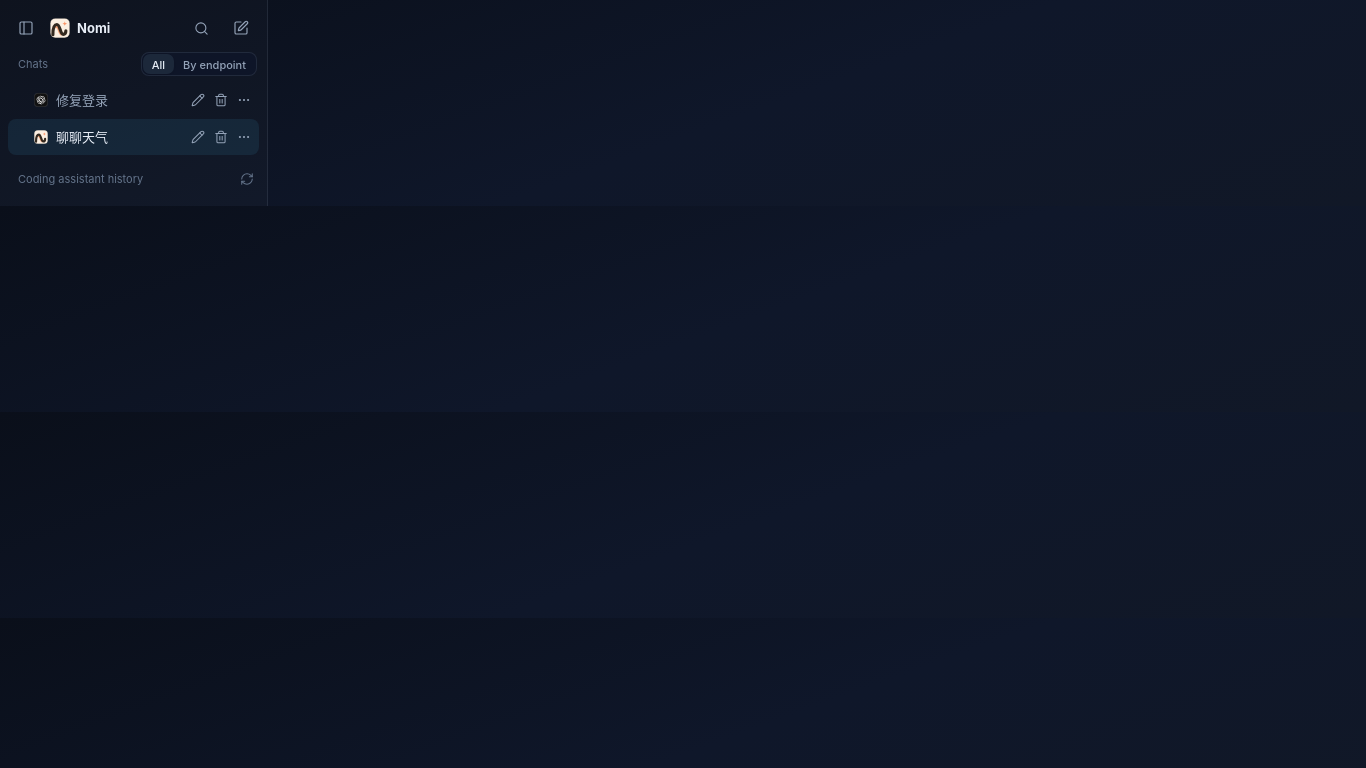
Scenario: one conversation context menu › Escape closes the menu; arrow keys move focus between items
Right-click the button with test id "history-item" showing "修复登录": (134, 100) [8, 82, 259, 118]
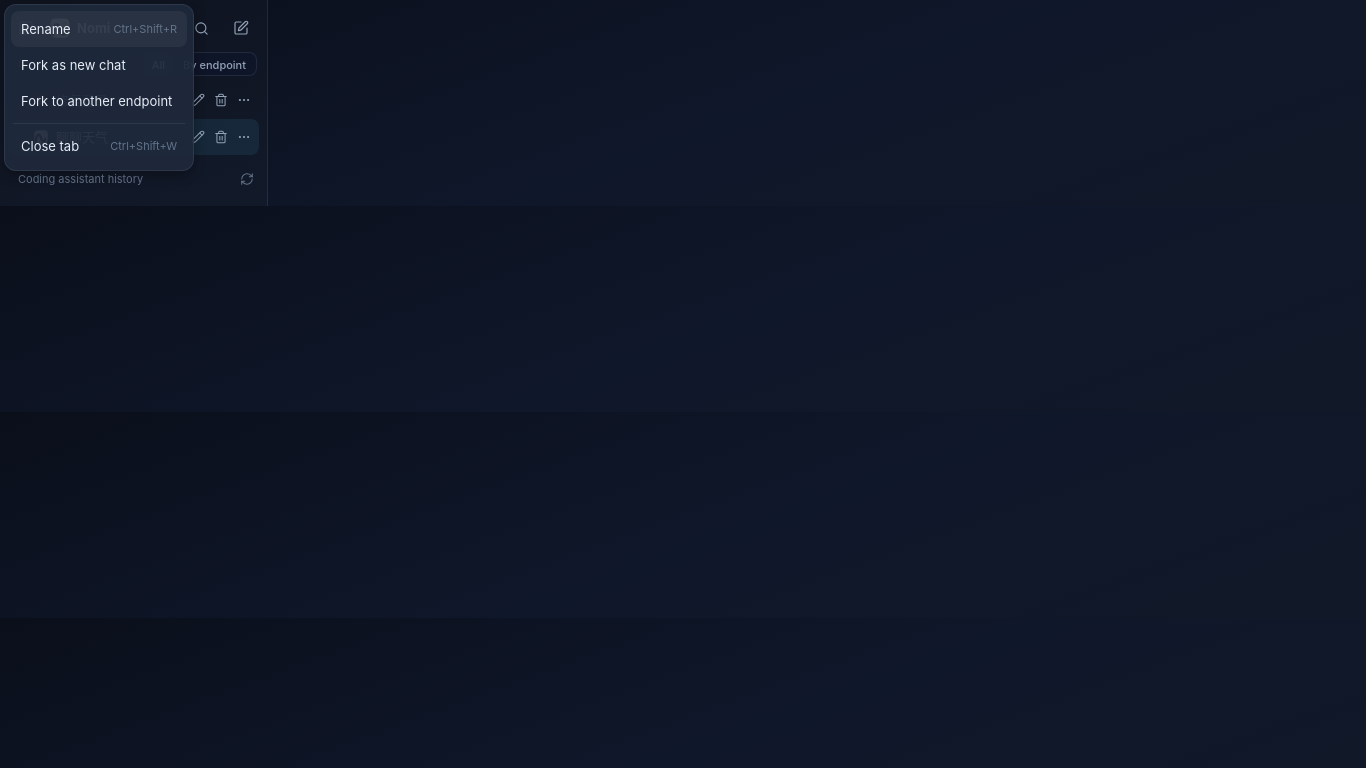
Press ArrowDown in the menu with test id "conversation-context-menu", box [4, 4, 194, 171]
Press Escape in the menu with test id "conversation-context-menu", box [4, 4, 194, 171]
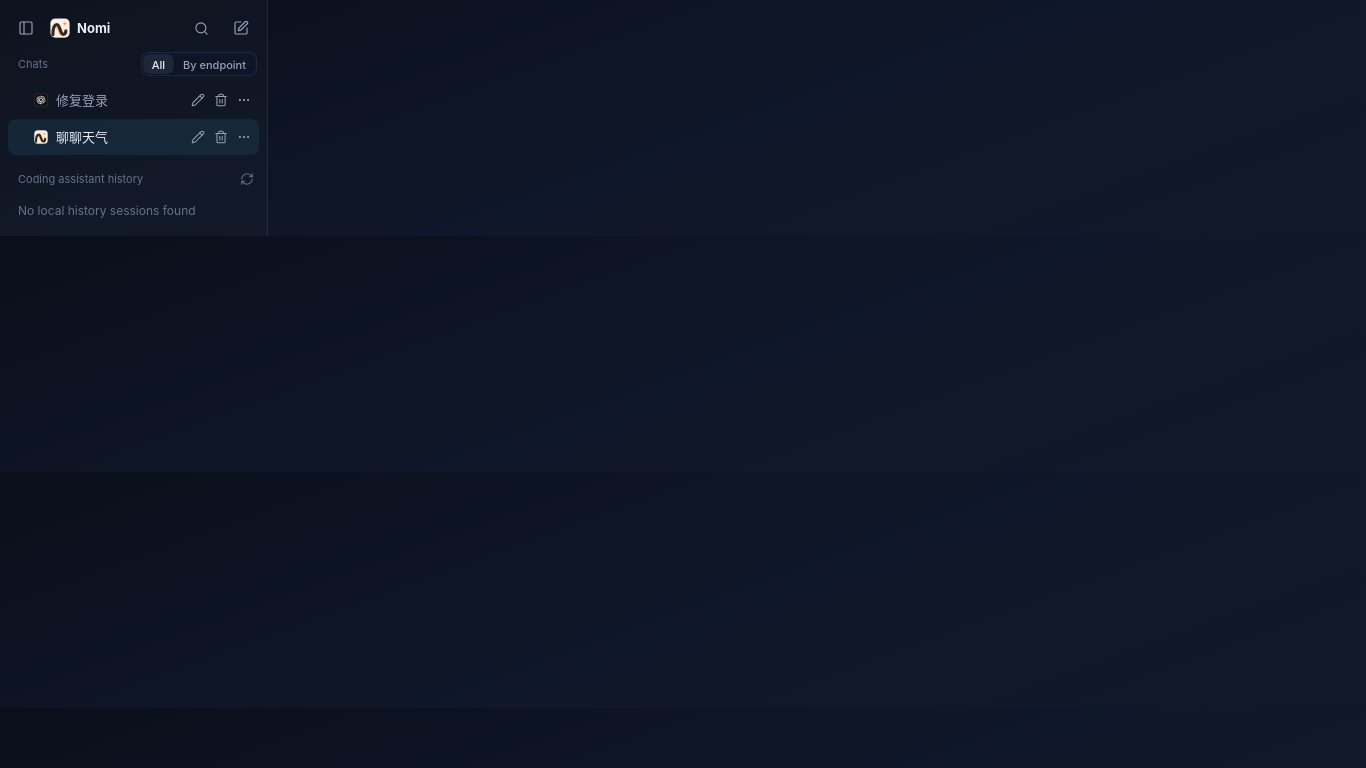
Result: the menu with test id "conversation-context-menu" is gone
